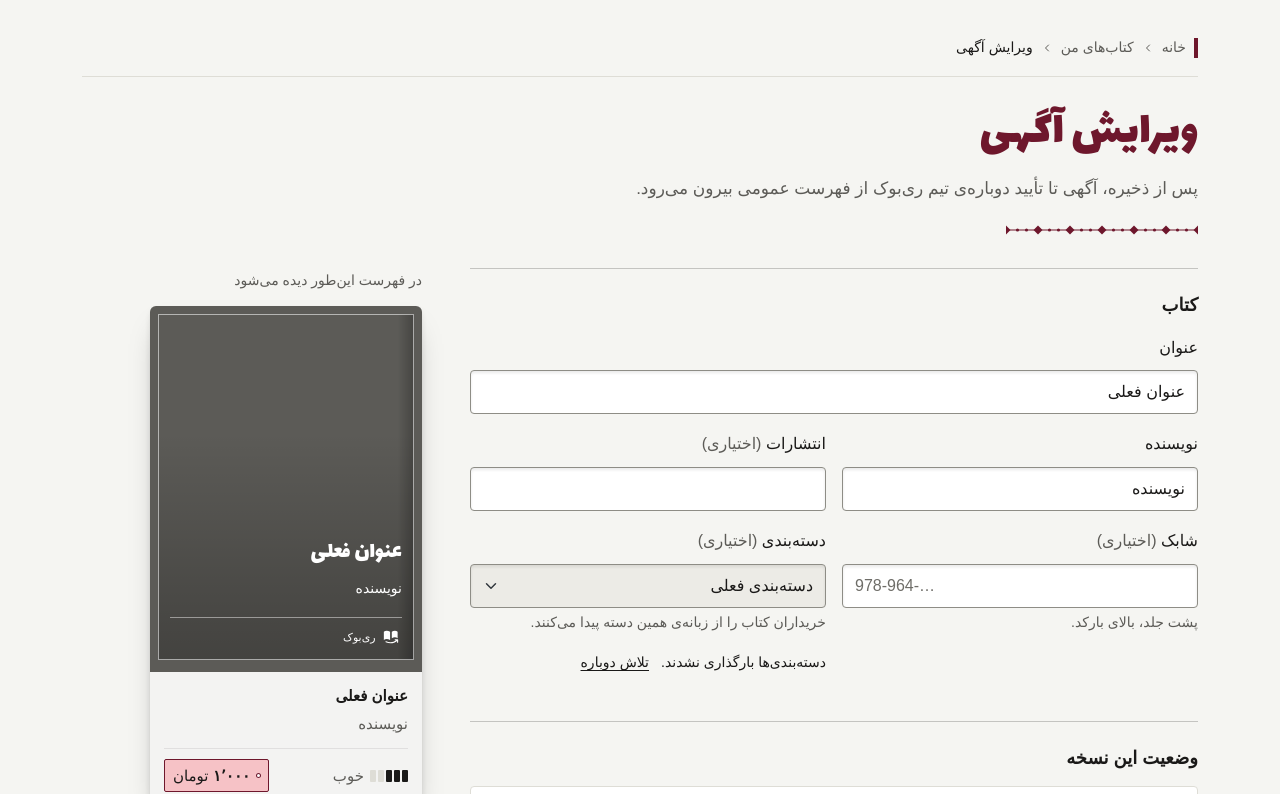
Test: preserves an edited book and its saved category while category loading recovers
Expected: the dropdown labelled "دسته‌بندی (اختیاری)" shows "دسته‌بندی فعلی", [470,564,826,608]
Expected: the dropdown labelled "دسته‌بندی (اختیاری)" is disabled, [470,564,826,608]
Step 1. Replace the text in the field labelled "عنوان" with "عنوان ویرایش‌شده" → (834, 392), box [470,370,1198,414]
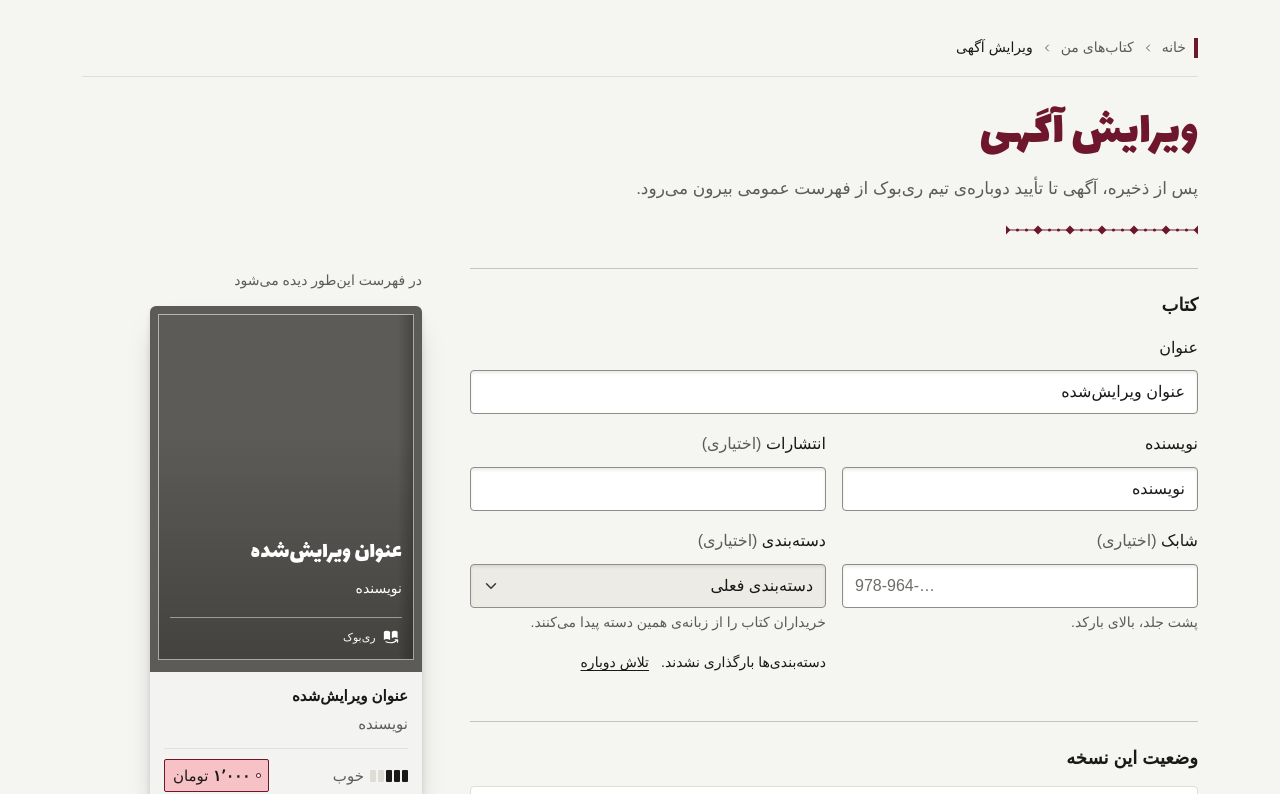
Step 2. Click the button with aria-label "تلاش دوباره برای دریافت دسته‌بندی‌ها" → (615, 663), box [576,641,653,685]
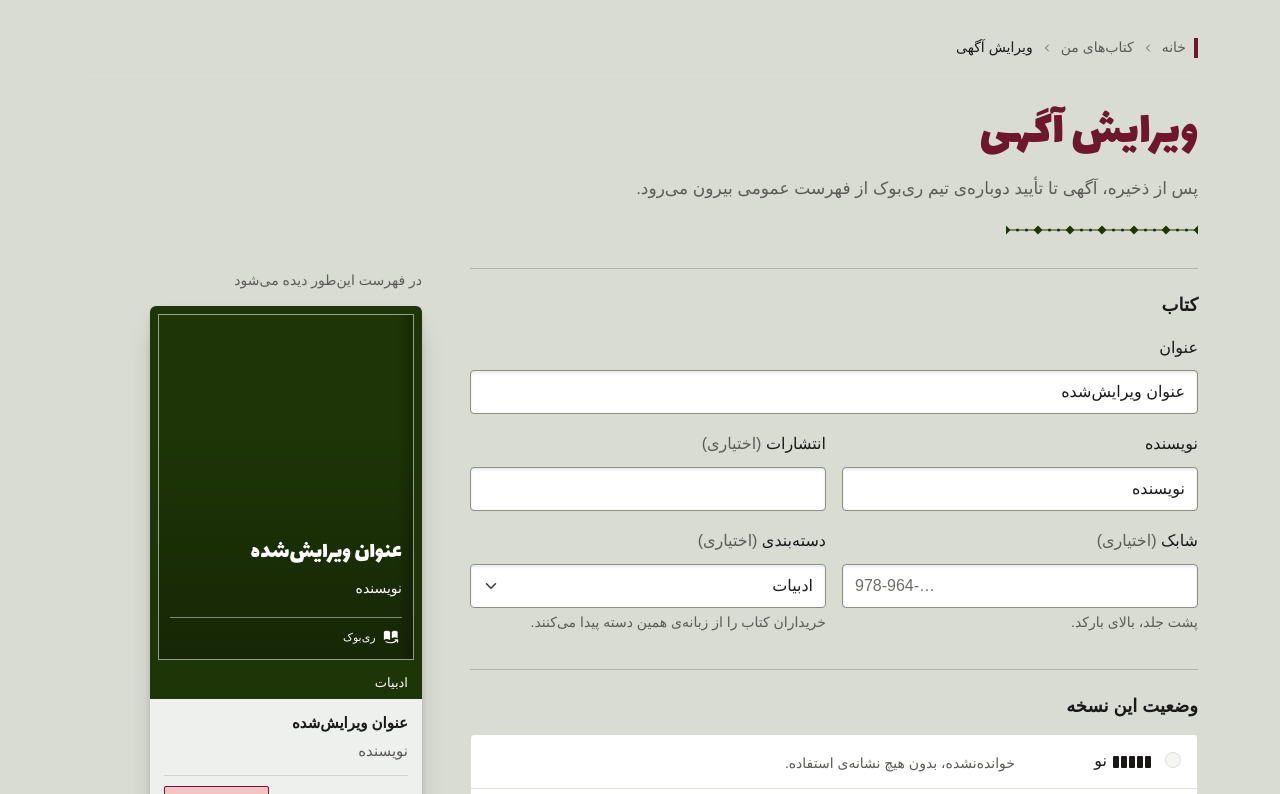
Expected: the dropdown labelled "دسته‌بندی (اختیاری)" is enabled, [470,564,826,608]
Expected: the dropdown labelled "دسته‌بندی (اختیاری)" shows "ادبیات", [470,564,826,608]
